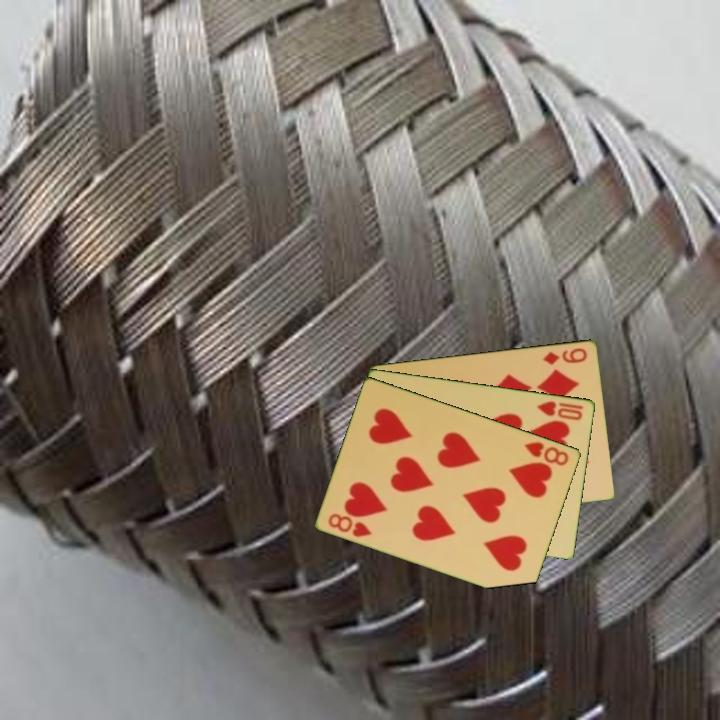10h: (534, 397, 586, 423)
8h: (521, 438, 572, 469), (325, 510, 375, 540)
9d: (540, 344, 590, 367)
